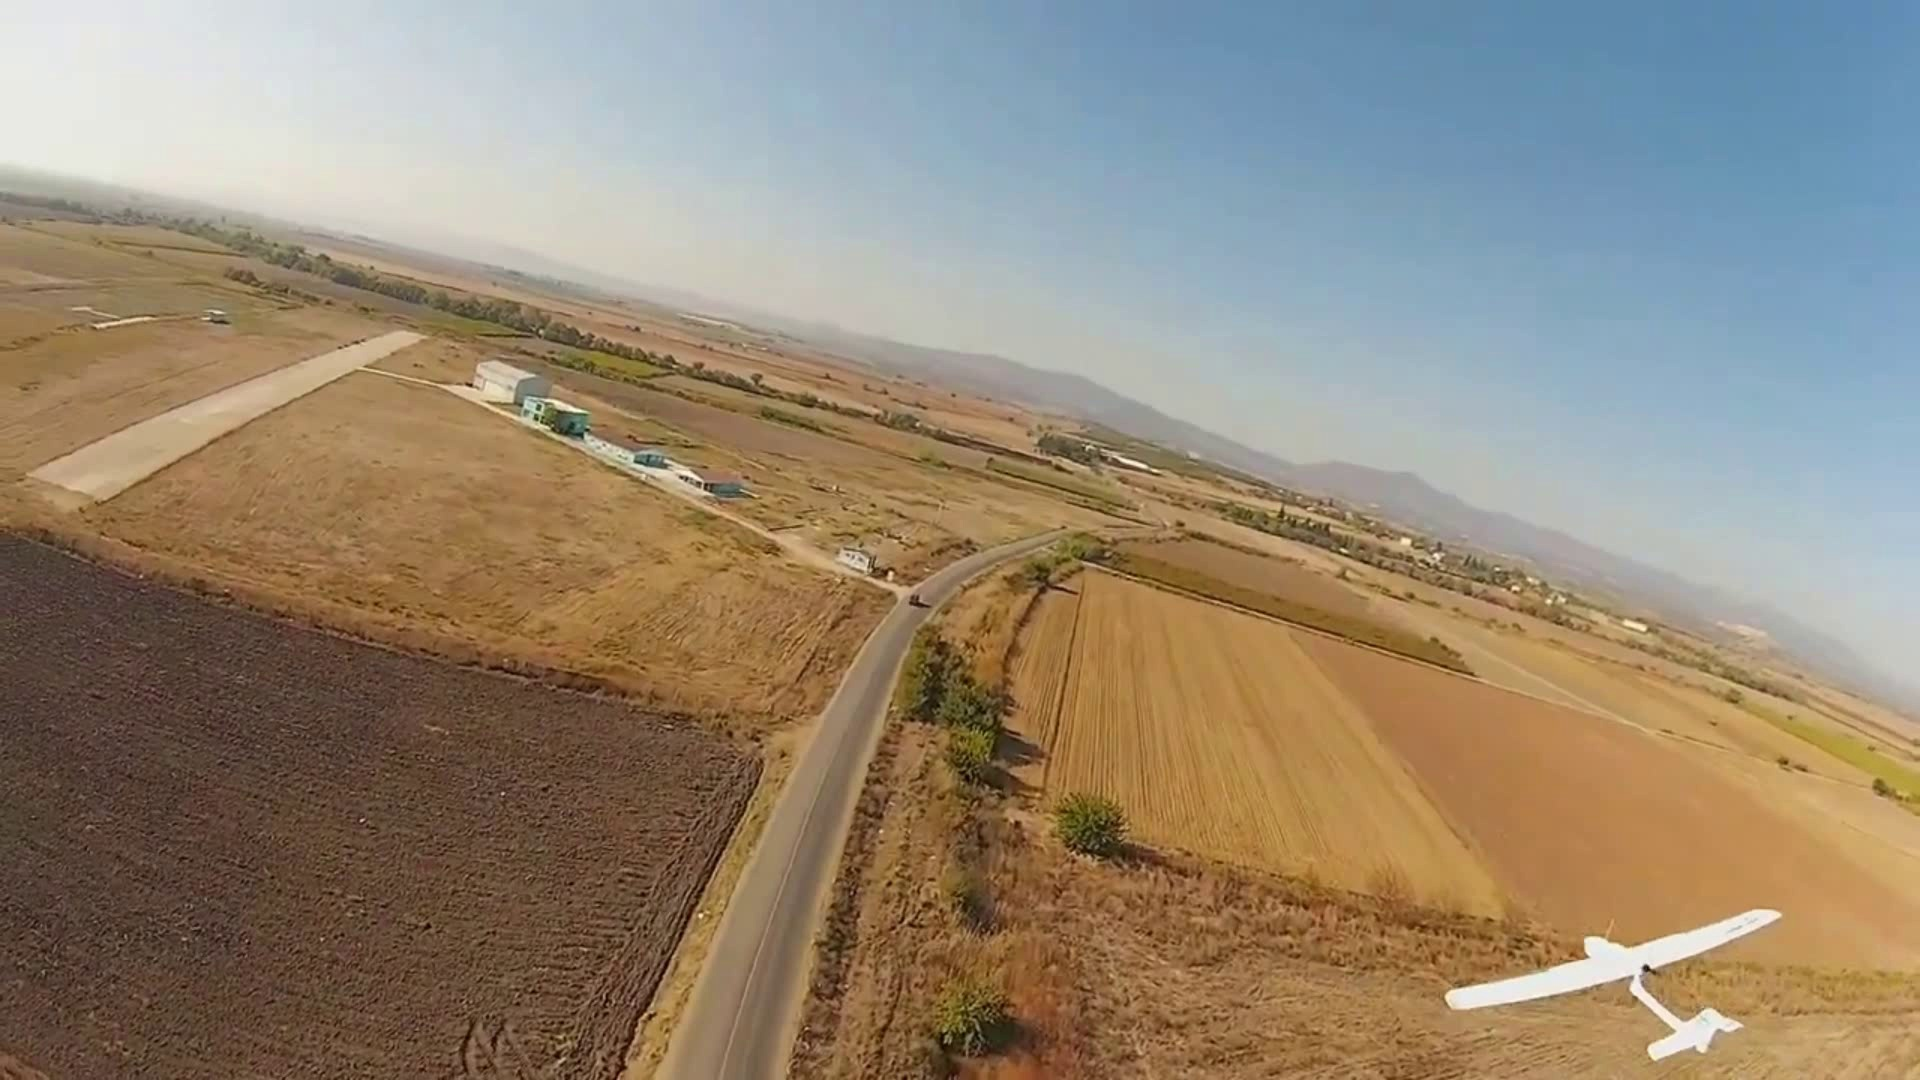airplane: (1447, 909, 1785, 1046)
